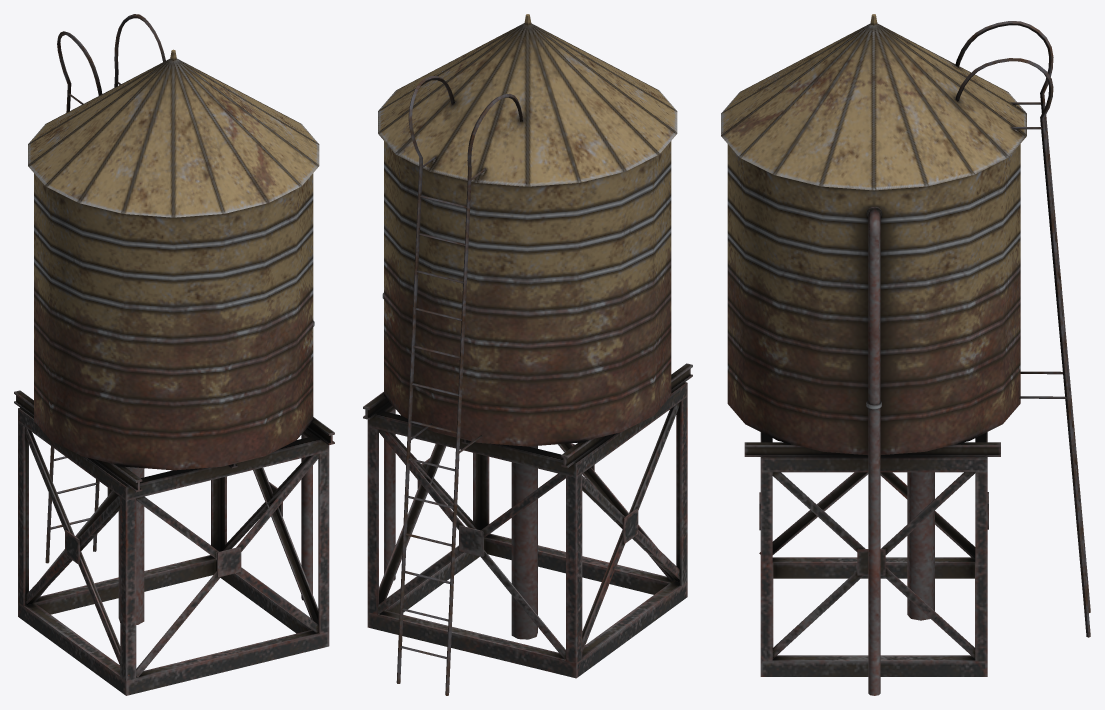
Rendered from Water_Tower_03.fbx.
3 views of the same model, side by side, from view 1: azimuth 30°, elevation 25°; view 2: azimuth 150°, elevation 25°; view 3: azimuth 270°, elevation 25° (orthographic). The views are drawn at different scales.
Visible parts, largest first — view 1: Water_Tower_3; view 2: Water_Tower_3; view 3: Water_Tower_3.
Boxes of the visible parts, x1=… form: Water_Tower_3: x1=14, y1=14, x2=334, y2=695; Water_Tower_3: x1=363, y1=14, x2=692, y2=695; Water_Tower_3: x1=721, y1=14, x2=1090, y2=695.
Size of the model in its own units: 367 by 759 by 417.
